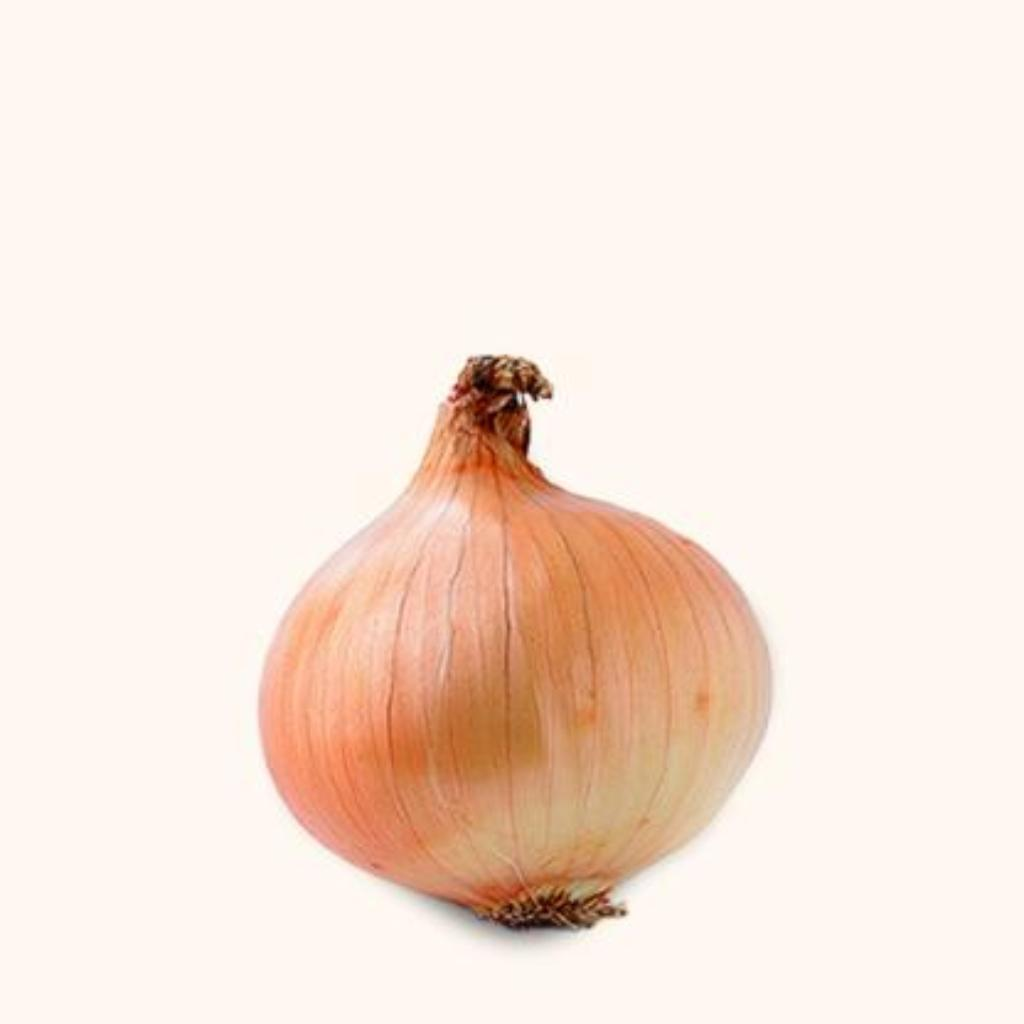Onion: (263, 357, 770, 930)
